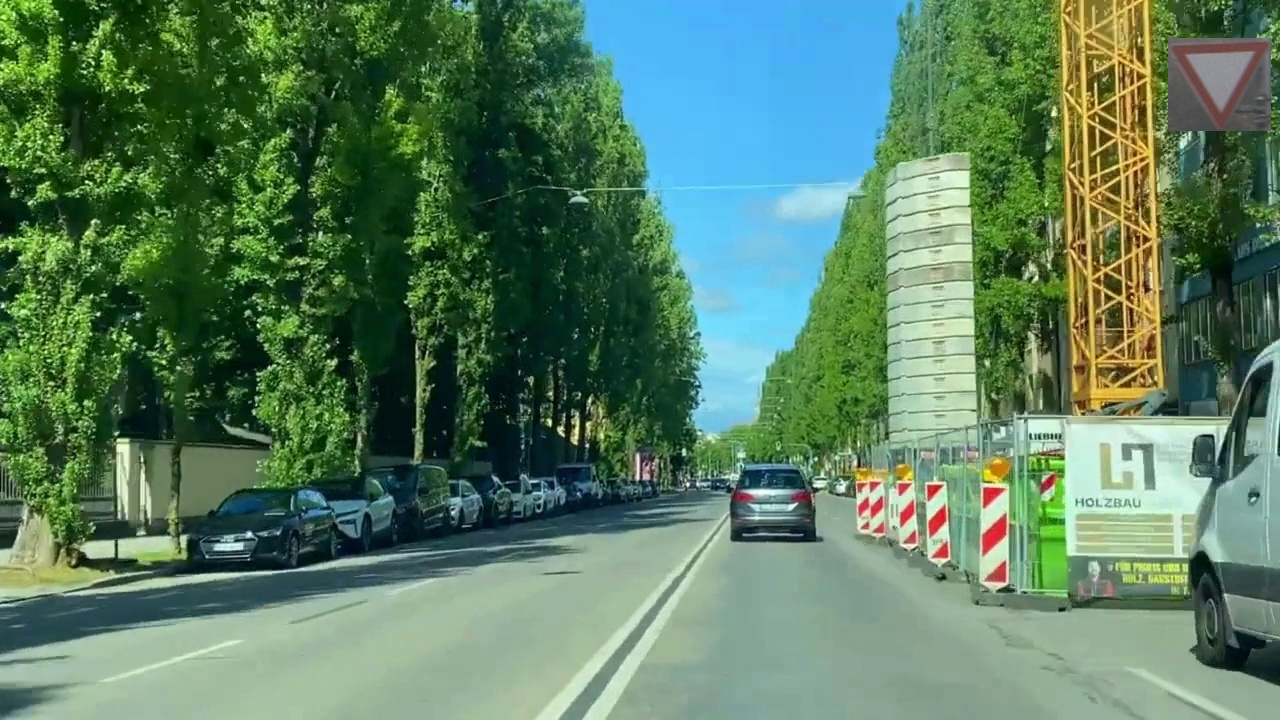Yield: (1168, 38, 1271, 131)
